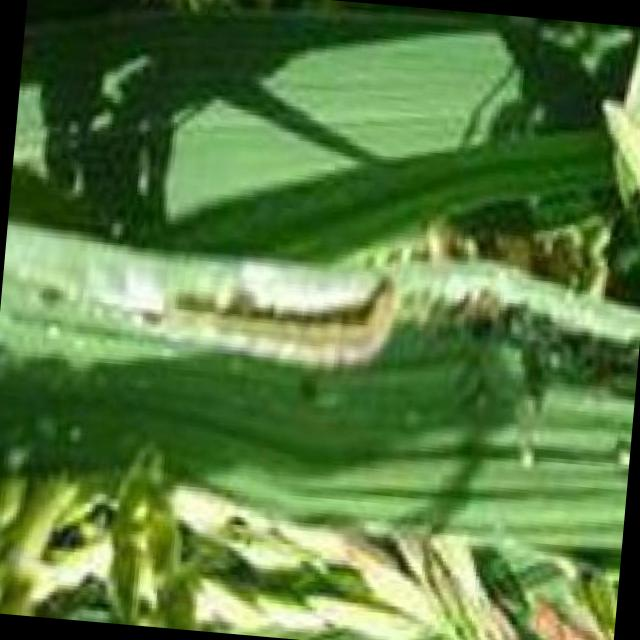leaf-folder: (152, 241, 412, 402)
